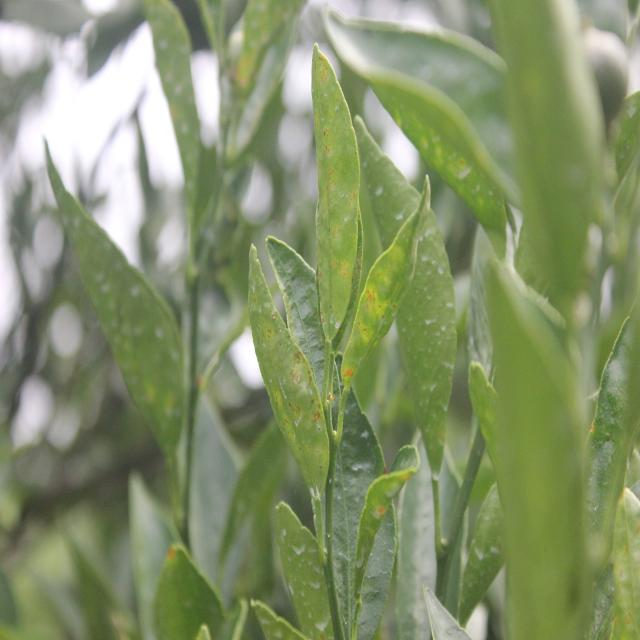canker: (244, 282, 328, 480), (309, 52, 356, 343), (339, 234, 416, 405)
